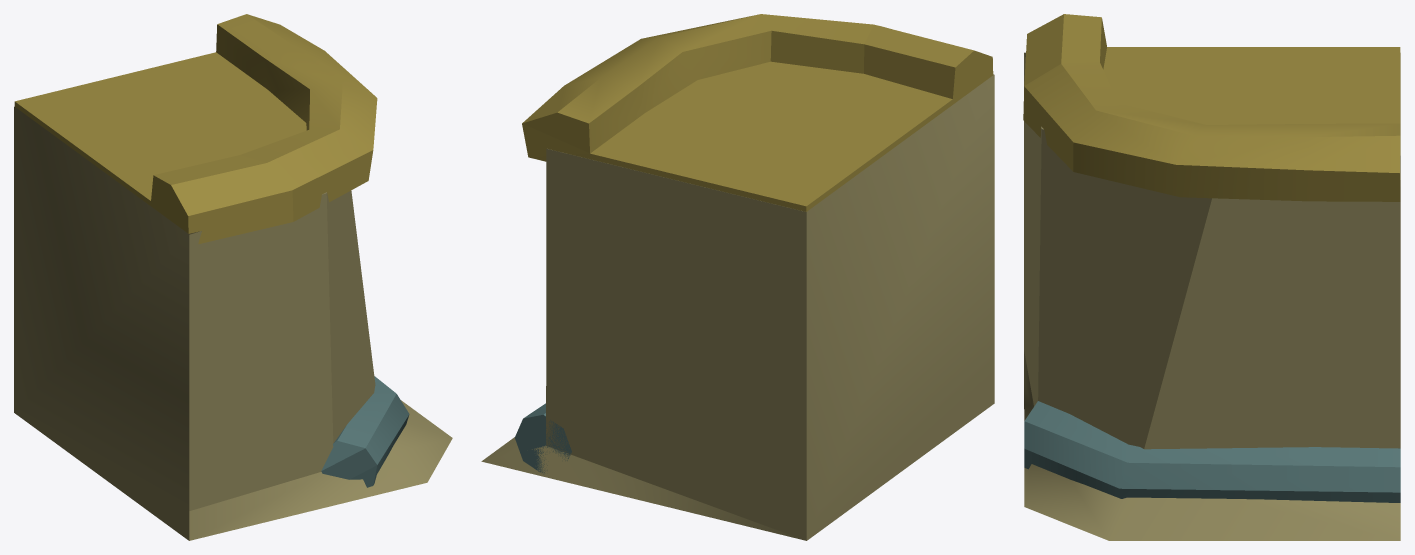
File: Int_17_InnerWall_Left_Diagonal.fbx
3 renders of one model, left to right at view 1: azimuth 30°, elevation 25°; view 2: azimuth 150°, elevation 25°; view 3: azimuth 270°, elevation 25°, orthographic. The views are drawn at different scales.
Parts seen in each view (by area): view 1: Int_17_InnerWall_Left_Diagonal1; view 2: Int_17_InnerWall_Left_Diagonal1; view 3: Int_17_InnerWall_Left_Diagonal1.
Boxes of the visible parts, <box> form: Int_17_InnerWall_Left_Diagonal1: <box>14,14,452,540</box>; Int_17_InnerWall_Left_Diagonal1: <box>481,14,994,540</box>; Int_17_InnerWall_Left_Diagonal1: <box>1023,14,1400,540</box>.
Size of the model in its own units: 1 by 1.08 by 1.
